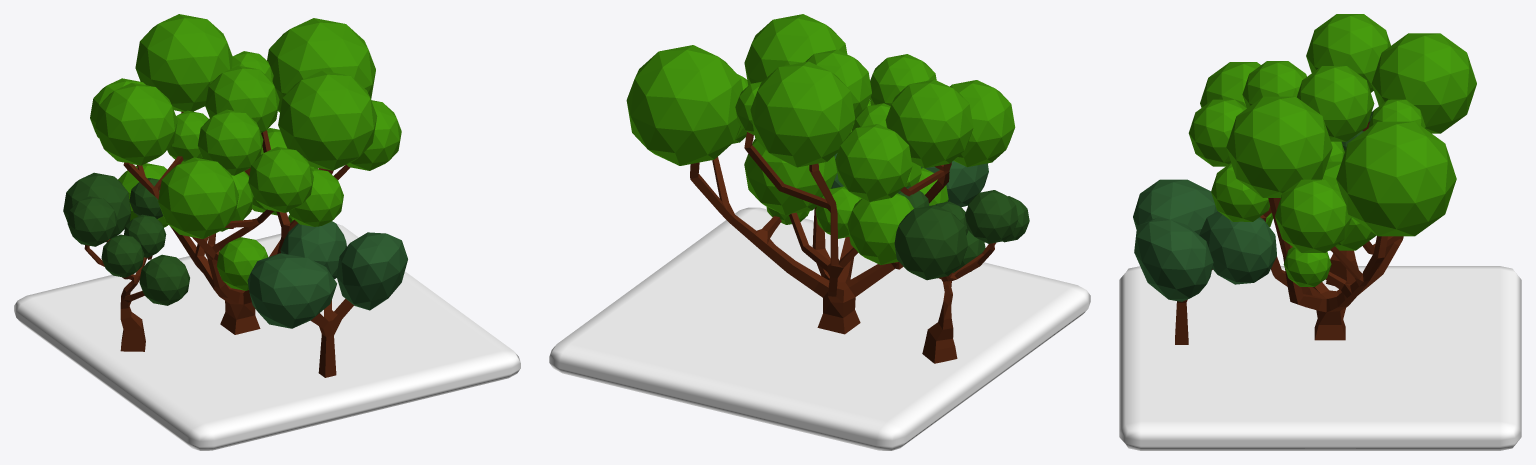
File: groupTree.glb
The picture shows the model from 3 angles, left to right: view 1: azimuth 30°, elevation 25°; view 2: azimuth 150°, elevation 25°; view 3: azimuth 270°, elevation 25°; orthographic projection. The views are drawn at different scales.
Parts seen in each view (by area): view 1: tree crown (×2), Box, treetop, trunk and branches (×3); view 2: Box, tree crown (×2), trunk and branches (×2), treetop; view 3: Box, tree crown, treetop, trunk and branches (×3).
Boxes of the visible parts, box(x1,y1,x2,y2) form: tree crown (×2): box(63, 14, 401, 305); Box: box(14, 224, 520, 450); treetop: box(247, 221, 407, 328); trunk and branches (×3): box(84, 111, 353, 377); Box: box(549, 207, 1090, 450); tree crown (×2): box(626, 14, 1029, 280); trunk and branches (×2): box(690, 132, 995, 363); treetop: box(831, 153, 988, 207); Box: box(1119, 266, 1521, 450); tree crown: box(1188, 14, 1476, 286); treetop: box(1133, 179, 1276, 301); trunk and branches (×3): box(1175, 121, 1403, 344).
Size of the model in its own units: 0.5348 by 0.4372 by 0.5.
